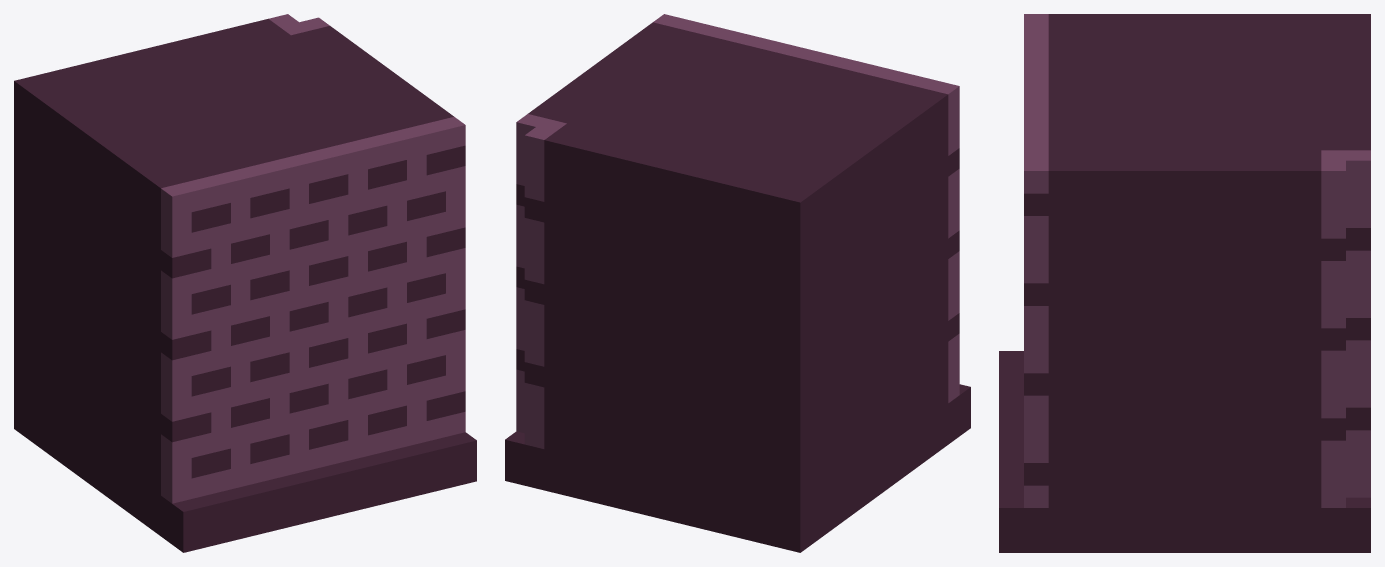
Rendered from dungeon_c_b_outer_wall_segment_d_flipped.obj.
The picture shows the model from 3 angles, left to right: view 1: azimuth 30°, elevation 25°; view 2: azimuth 150°, elevation 25°; view 3: azimuth 270°, elevation 25°; orthographic projection. The views are drawn at different scales.
Size of the model in its own units: 1.5 by 1.7 by 1.5.
Materials: 1 (1 with a texture image).
